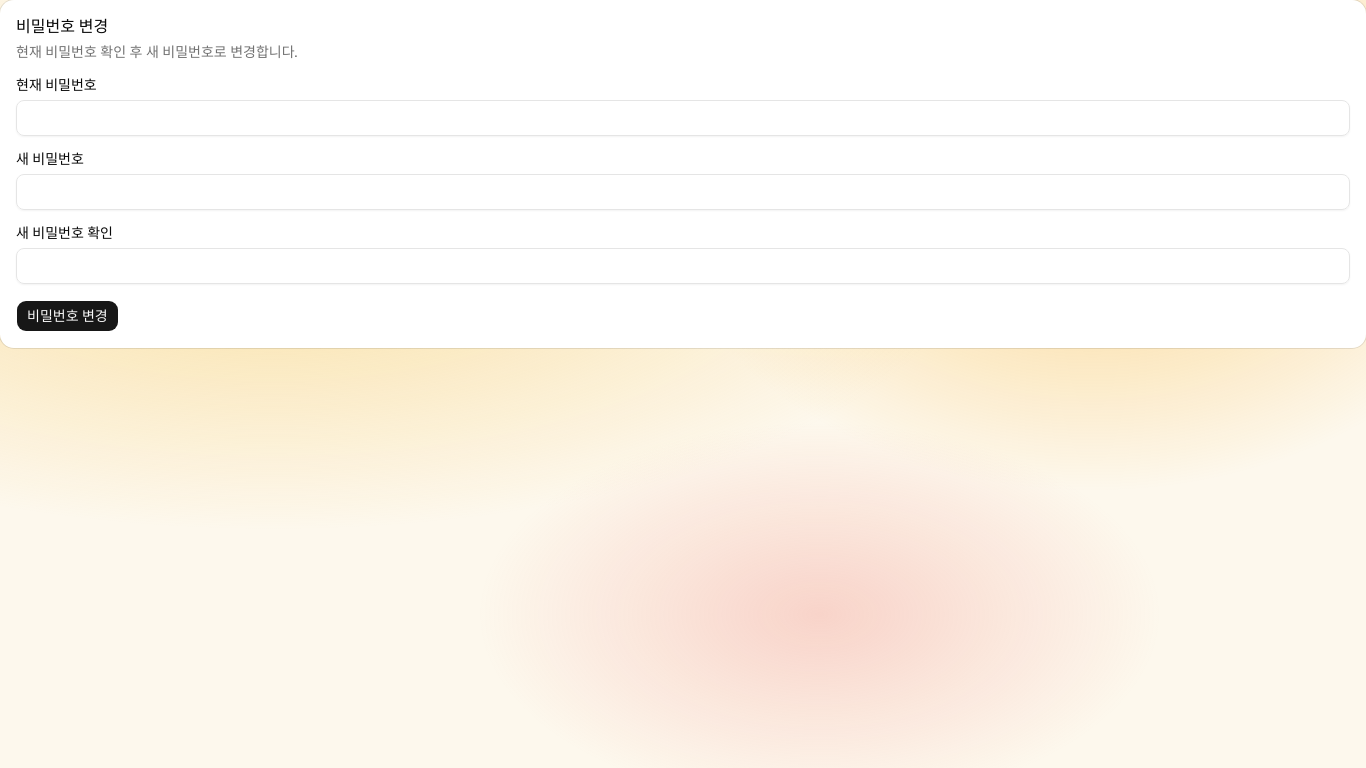
Test case: PasswordChangeForm › 비밀번호 변경 성공 시 성공 메시지를 보여준다
Type "OldPass123!" into the password field labelled "현재 비밀번호" at (683,118), box [16,100,1350,136]
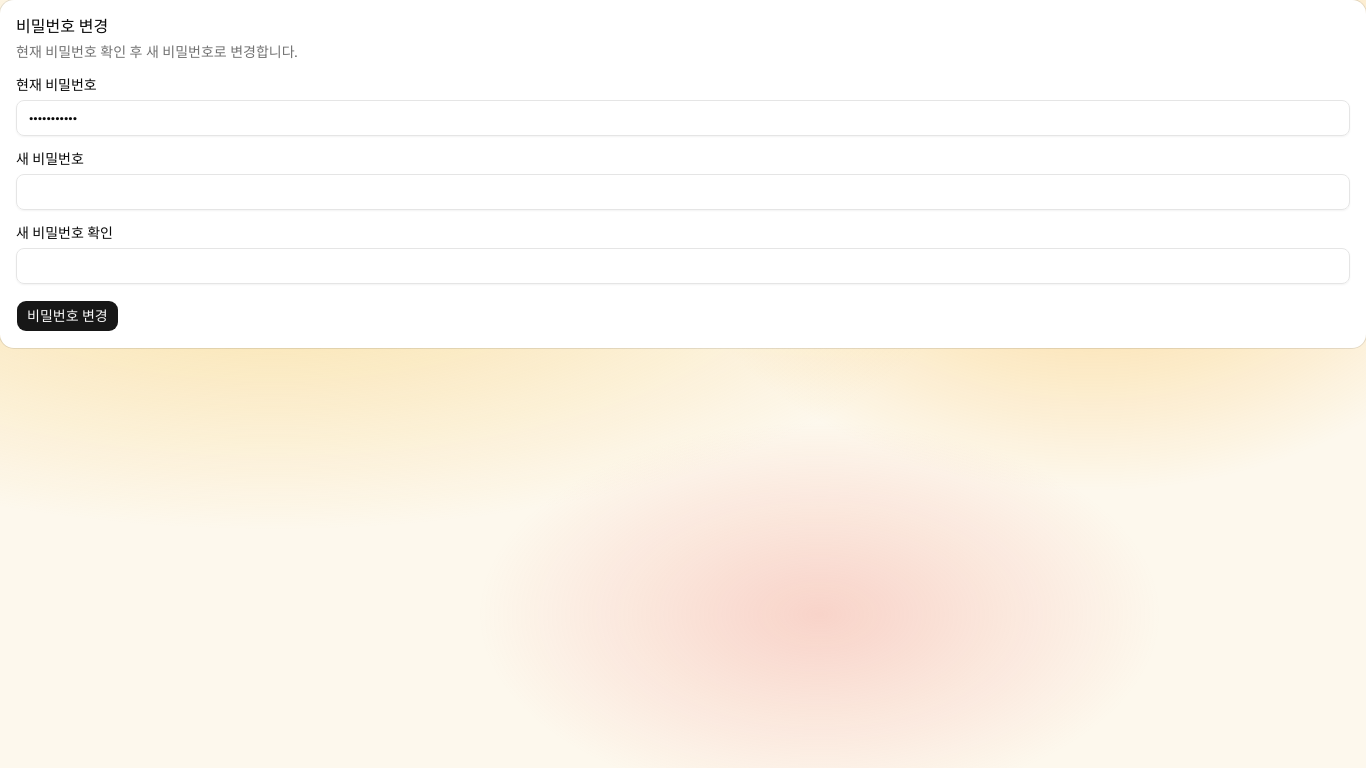
Type "NewPass456!" into the password field labelled "새 비밀번호" at (683,192), box [16,174,1350,210]
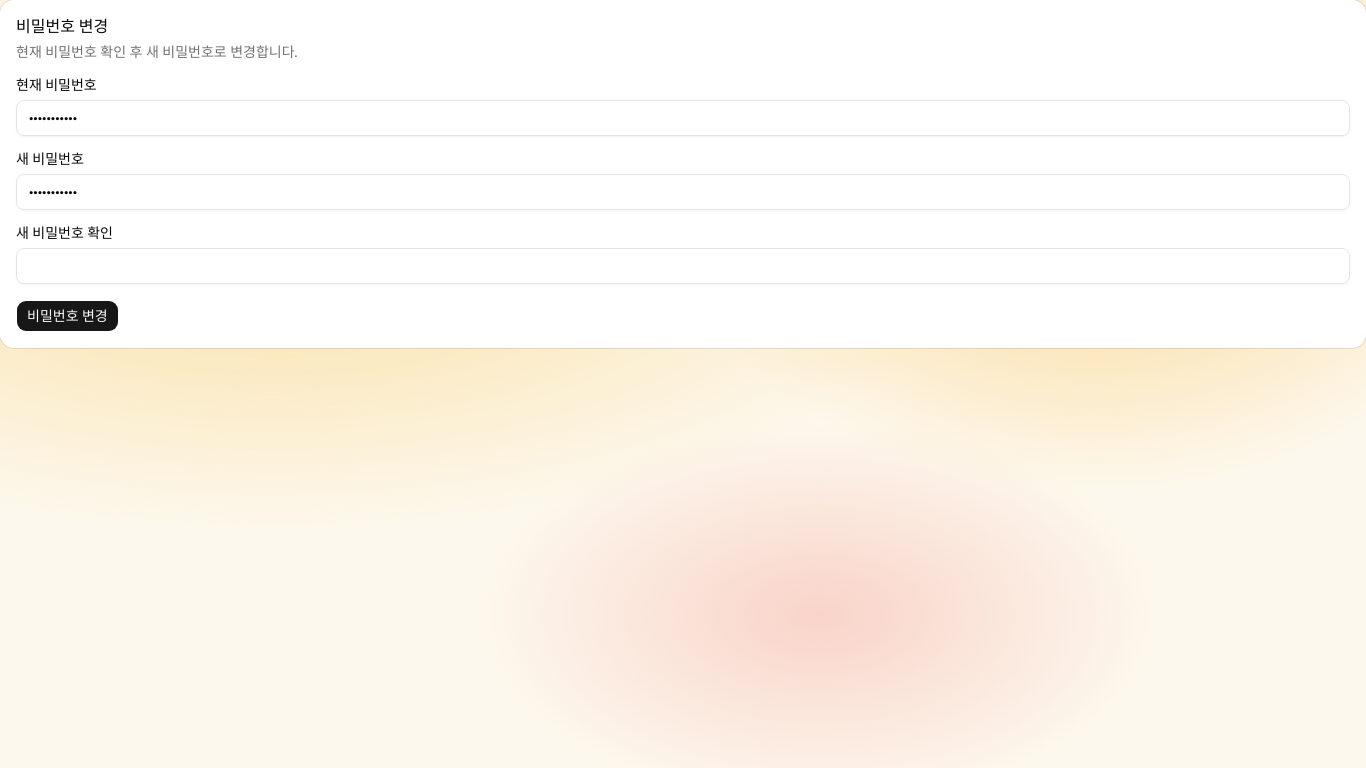
Type "NewPass456!" into the password field labelled "새 비밀번호 확인" at (683,266), box [16,248,1350,284]
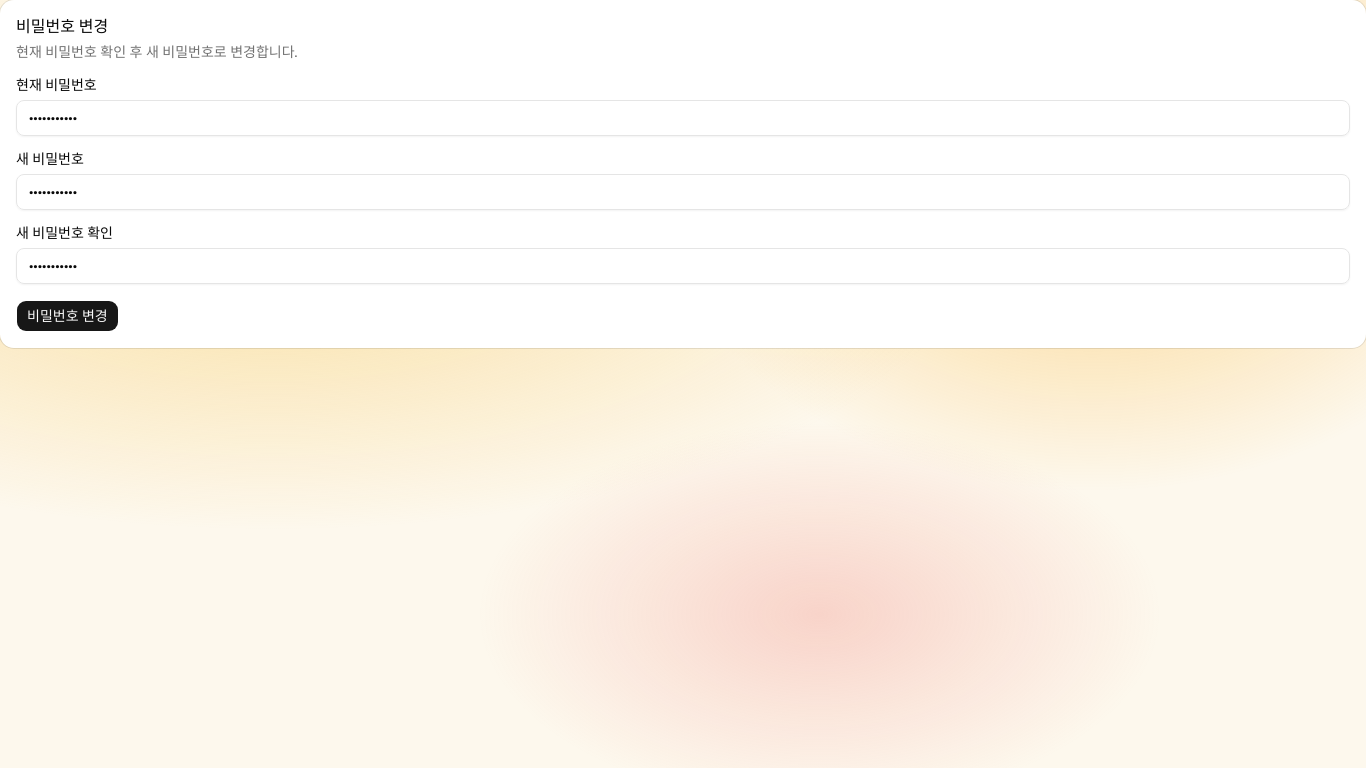
Click the button "비밀번호 변경" at (67,316), box [16,300,119,332]
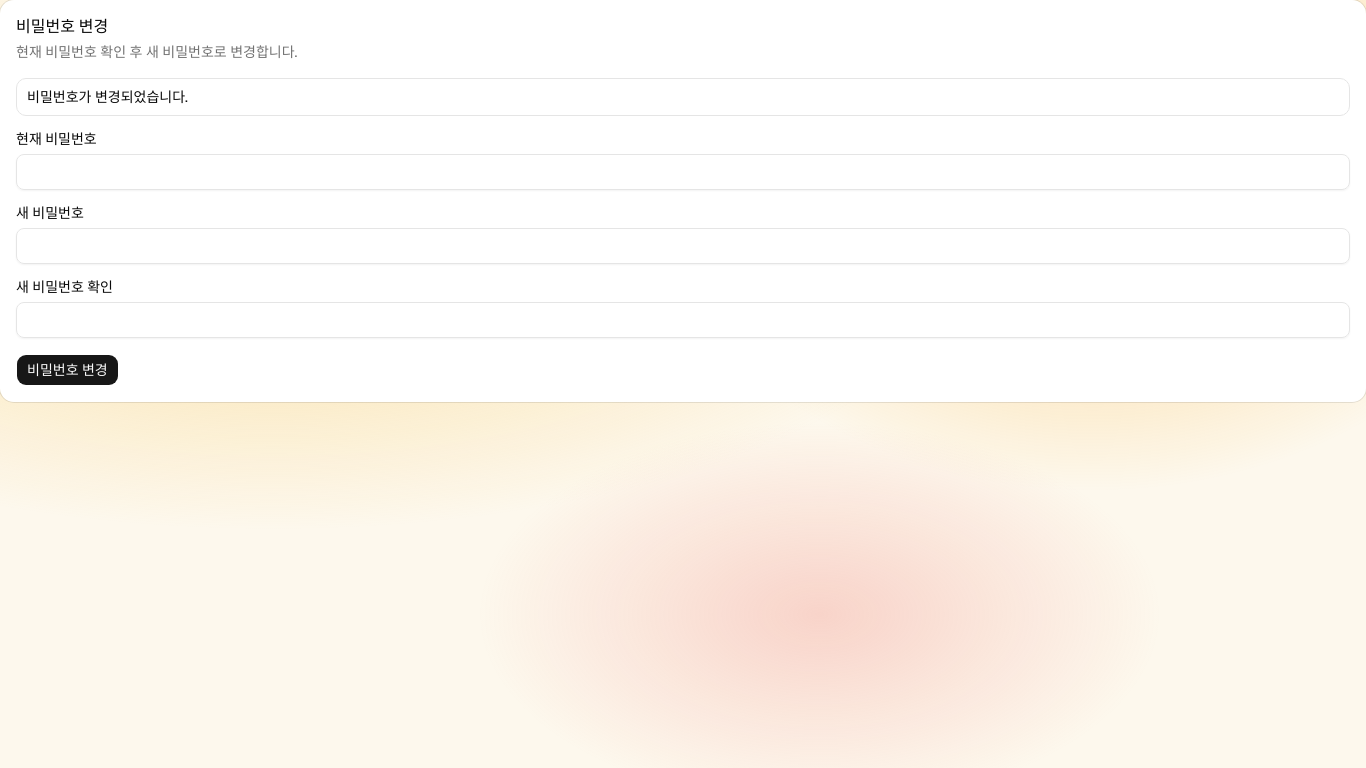
Now the text "비밀번호가 변경되었습니다." is shown, box [16,78,1350,116]
